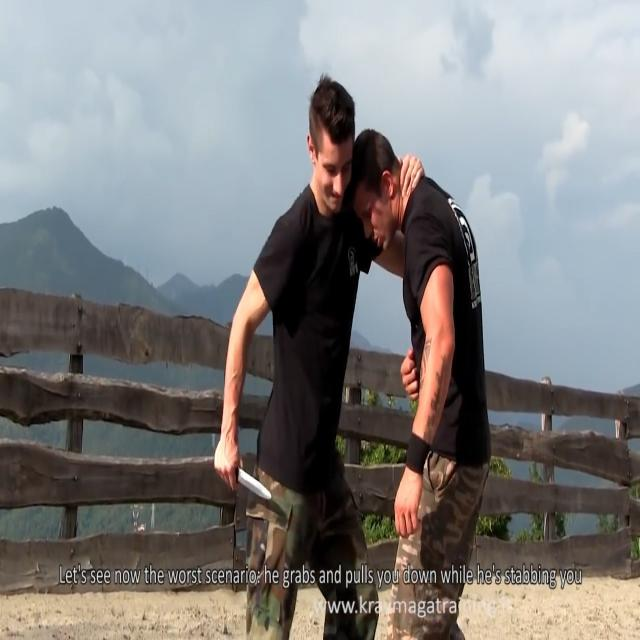knife: (235, 464, 275, 503)
